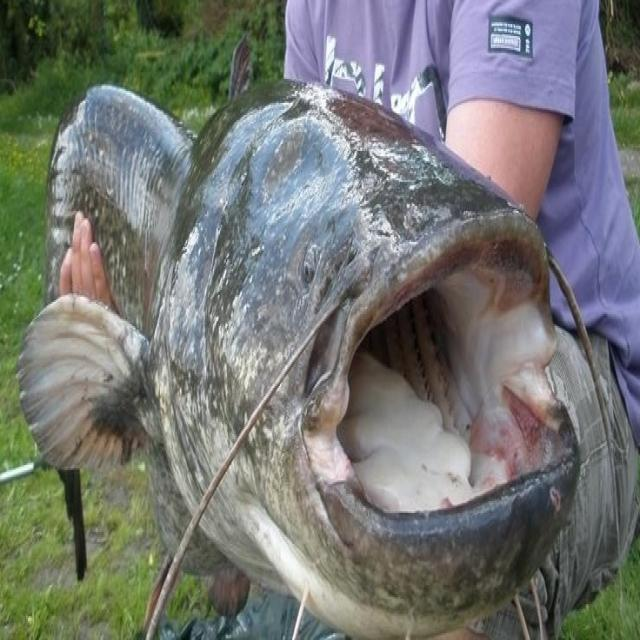Catfish: (28, 56, 580, 640)
